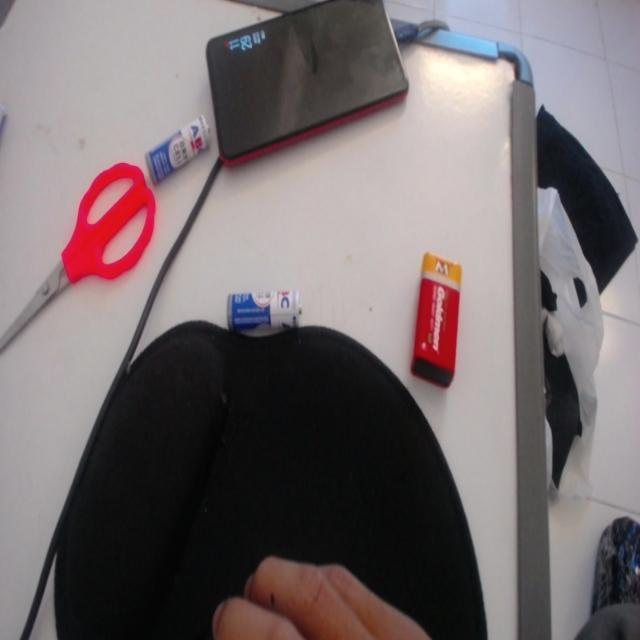9V: (397, 250, 488, 392)
AA: (134, 98, 228, 197), (224, 276, 318, 348)
